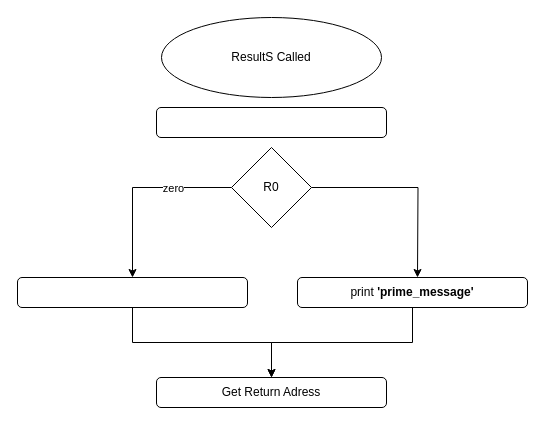
The diagram is 545 pixels wide and 425 high, and some of its shapes have lost their labels. Here are the shapes that lost their labels. From the top down, the centre of each, then its label:
At pixel 271 122: "Push return address".
At pixel 132 292: "print 'not_prime_message'".
